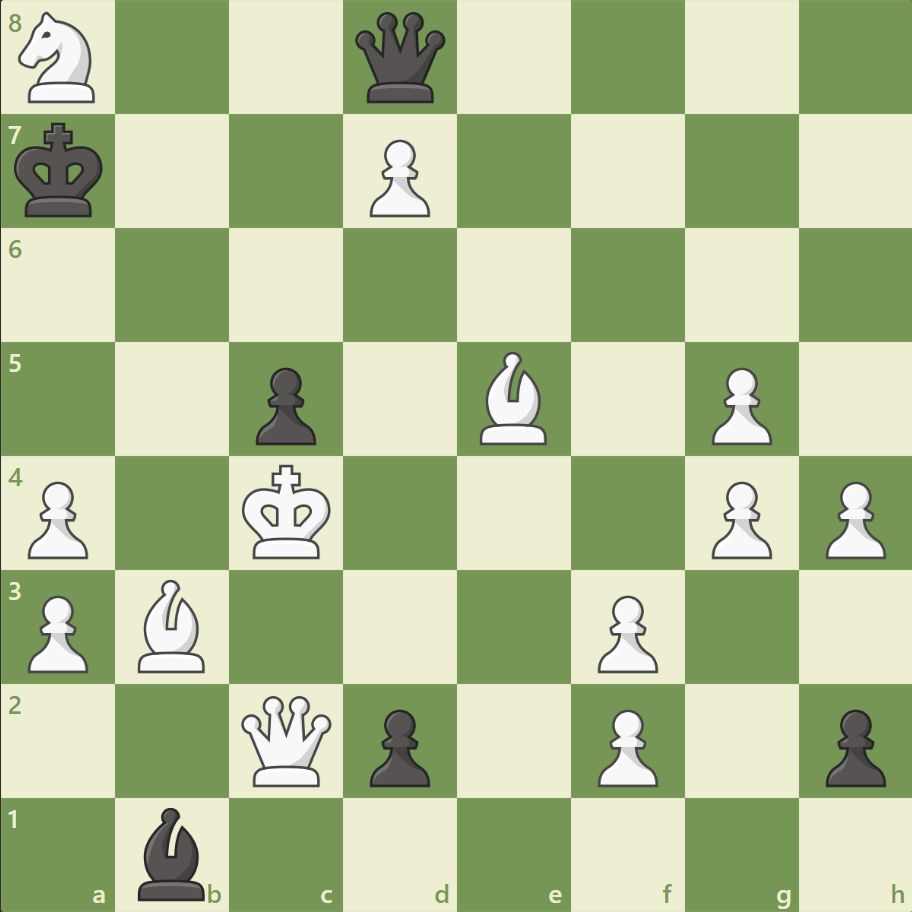B: (471, 347, 555, 449), (131, 574, 215, 676)
K: (238, 458, 338, 566)
N: (11, 7, 108, 110)
P: (701, 359, 776, 450), (20, 473, 95, 564), (701, 473, 776, 564), (20, 586, 95, 677), (361, 132, 435, 223), (815, 473, 889, 564), (588, 586, 662, 677), (588, 700, 662, 791)
Q: (237, 690, 336, 789)
b: (131, 801, 215, 904)
k: (11, 117, 111, 225)
p: (247, 359, 322, 450), (361, 700, 435, 791), (815, 700, 889, 791)
q: (351, 9, 450, 108)
